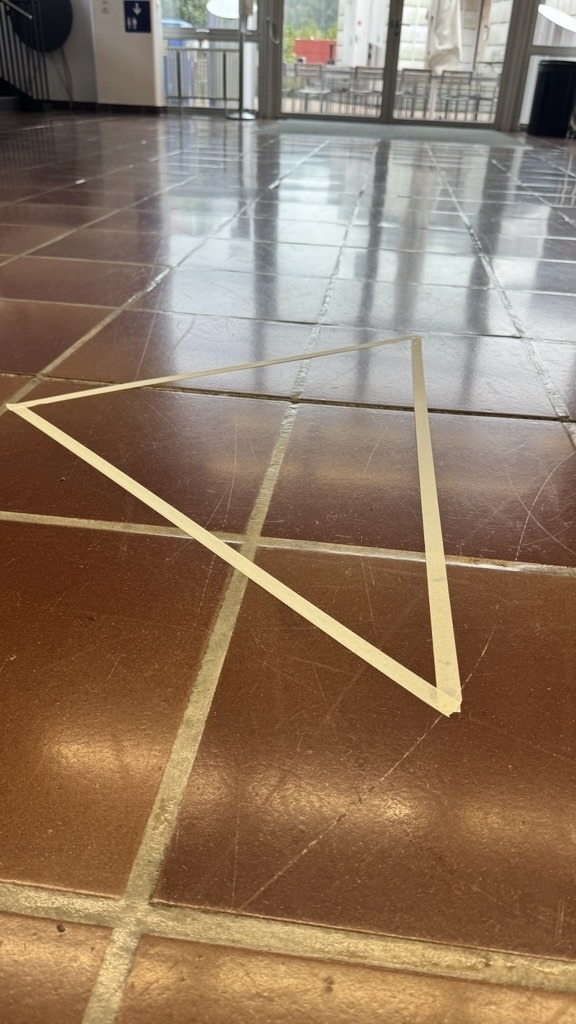line: (7, 400, 462, 721), (33, 332, 405, 404), (410, 335, 462, 716)
